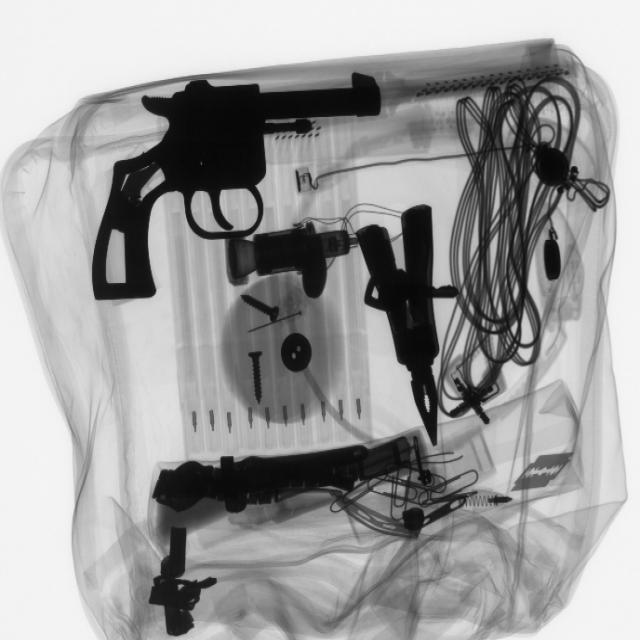BLADE: (509, 447, 579, 501)
GUN: (90, 75, 389, 308)
SCREW: (234, 344, 286, 413), (232, 288, 287, 336)
